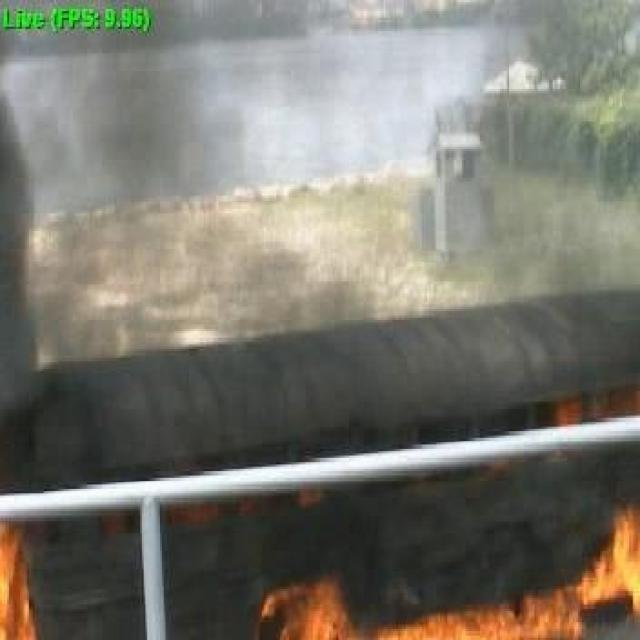fire: (248, 486, 636, 634), (0, 514, 35, 636)
smoke: (6, 331, 636, 483)
